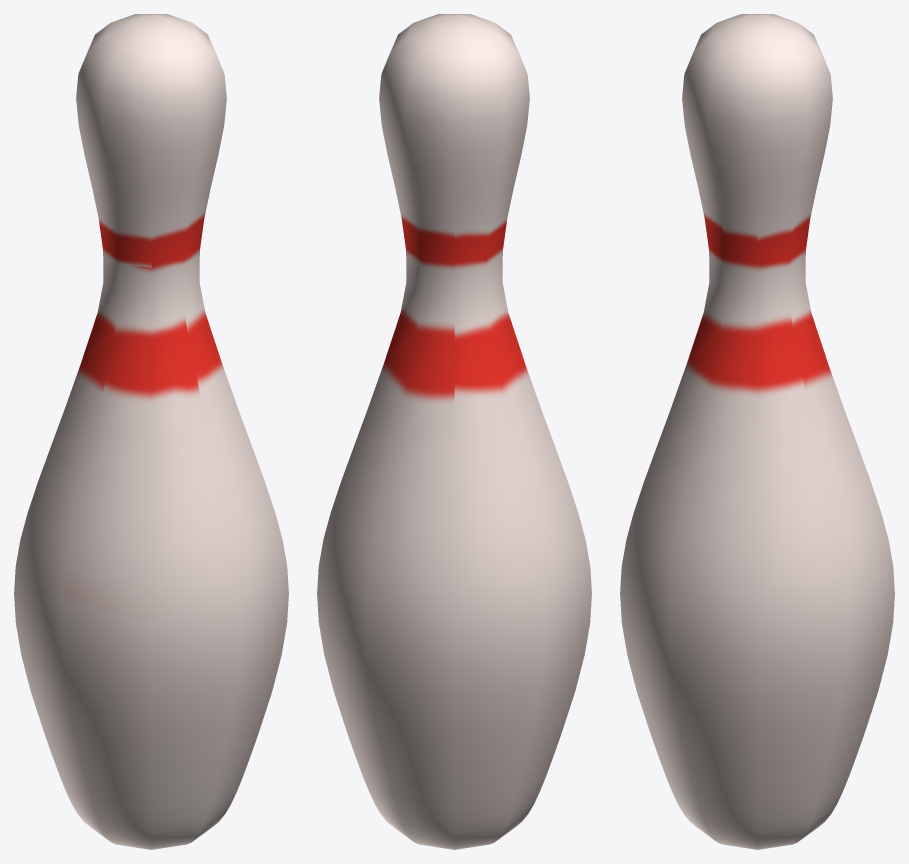
The model's file is Pin.obj.
The picture shows the model from 3 angles, left to right: view 1: azimuth 30°, elevation 25°; view 2: azimuth 150°, elevation 25°; view 3: azimuth 270°, elevation 25°; orthographic projection.
Visible parts, largest first — view 1: Pin; view 2: Pin; view 3: Pin.
Part boxes in pixels (x1,y1,x2,y2): Pin: (14,14,288,849); Pin: (317,14,591,849); Pin: (620,14,894,849).
Bounding box in the file's own units: 1.15 × 3.81 × 1.16.
Materials: 1 (1 with a texture image).
